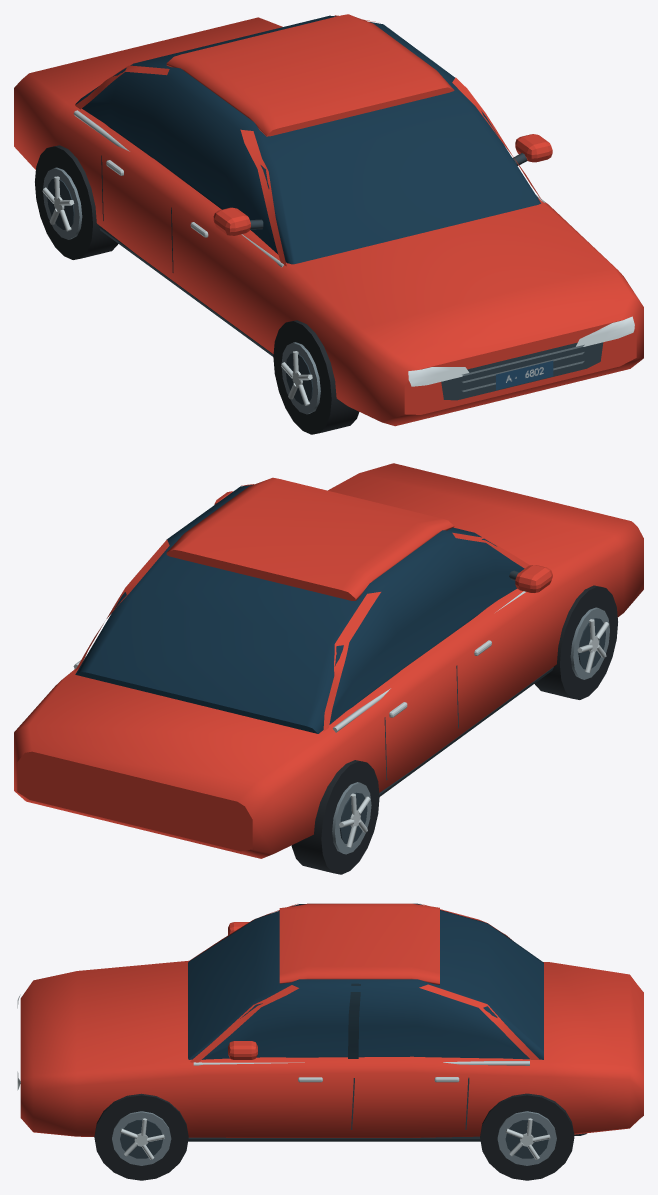
Rendered from car.glb.
3 renders of one model, top to bottom at view 1: azimuth 30°, elevation 25°; view 2: azimuth 150°, elevation 25°; view 3: azimuth 270°, elevation 25°, orthographic. The views are drawn at different scales.
Visible parts, largest first — view 1: car; view 2: car; view 3: car.
Part boxes in pixels (bbox=[...]): car: bbox=[14, 14, 643, 434]; car: bbox=[14, 463, 643, 874]; car: bbox=[17, 903, 643, 1180].
Bounding box in the file's own units: 2.16 × 1.47 × 4.48.
Materials: 10 (1 with a texture image).
